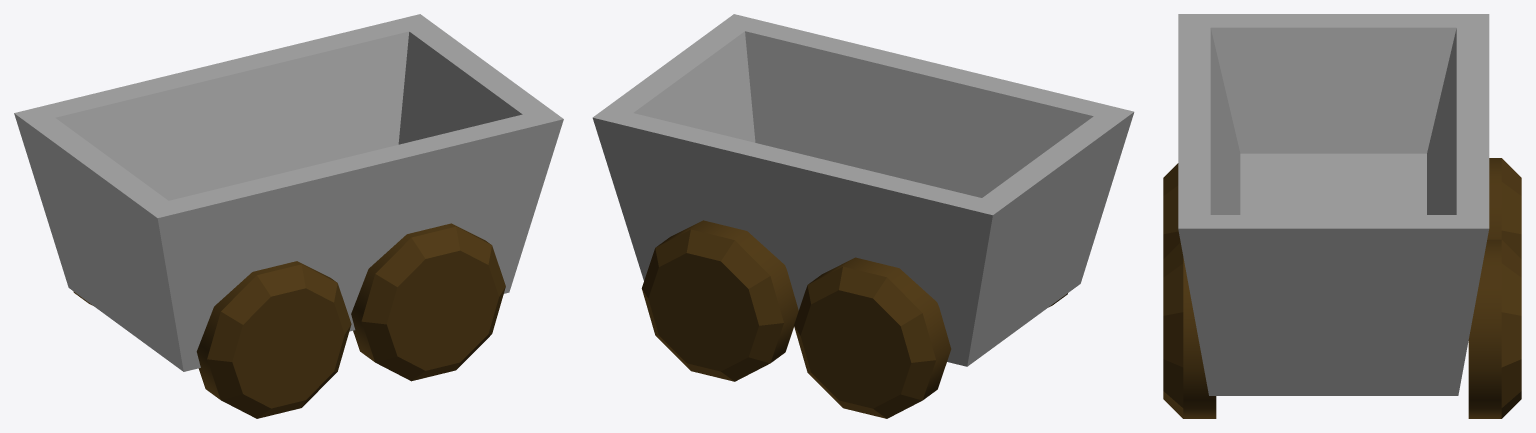
File: geo_TrainCarriage.fbx
The picture shows the model from 3 angles, left to right: view 1: azimuth 30°, elevation 25°; view 2: azimuth 150°, elevation 25°; view 3: azimuth 270°, elevation 25°; orthographic projection. The views are drawn at different scales.
Visible parts, largest first — view 1: pCube152, polySurface8, polySurface9; view 2: pCube152, polySurface15, polySurface14; view 3: pCube152, polySurface15, polySurface9, polySurface14, polySurface8.
Part boxes in pixels (box(x1,y1,x2,y2)): pCube152: box(14, 14, 563, 371); polySurface8: box(196, 261, 351, 418); polySurface9: box(351, 223, 505, 381); pCube152: box(592, 14, 1134, 366); polySurface15: box(641, 220, 798, 381); polySurface14: box(794, 257, 951, 418); pCube152: box(1178, 14, 1489, 395); polySurface15: box(1468, 239, 1521, 418); polySurface9: box(1163, 242, 1216, 418); polySurface14: box(1487, 158, 1521, 258); polySurface8: box(1163, 163, 1180, 258).
Bounding box in the file's own units: 25.87 × 13.82 × 18.26.
2 materials, 1 textured.
